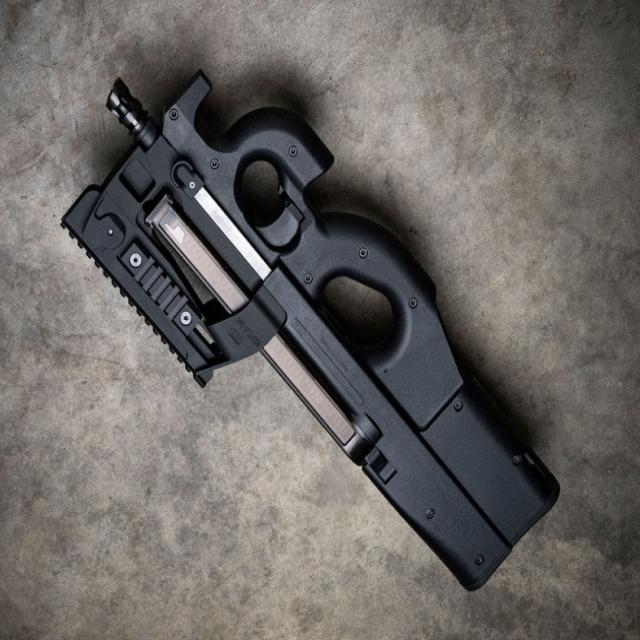Gun: (59, 93, 574, 598)
